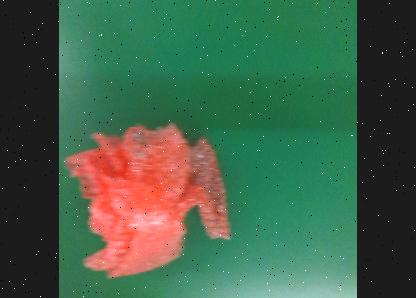Others: (64, 120, 234, 282)
